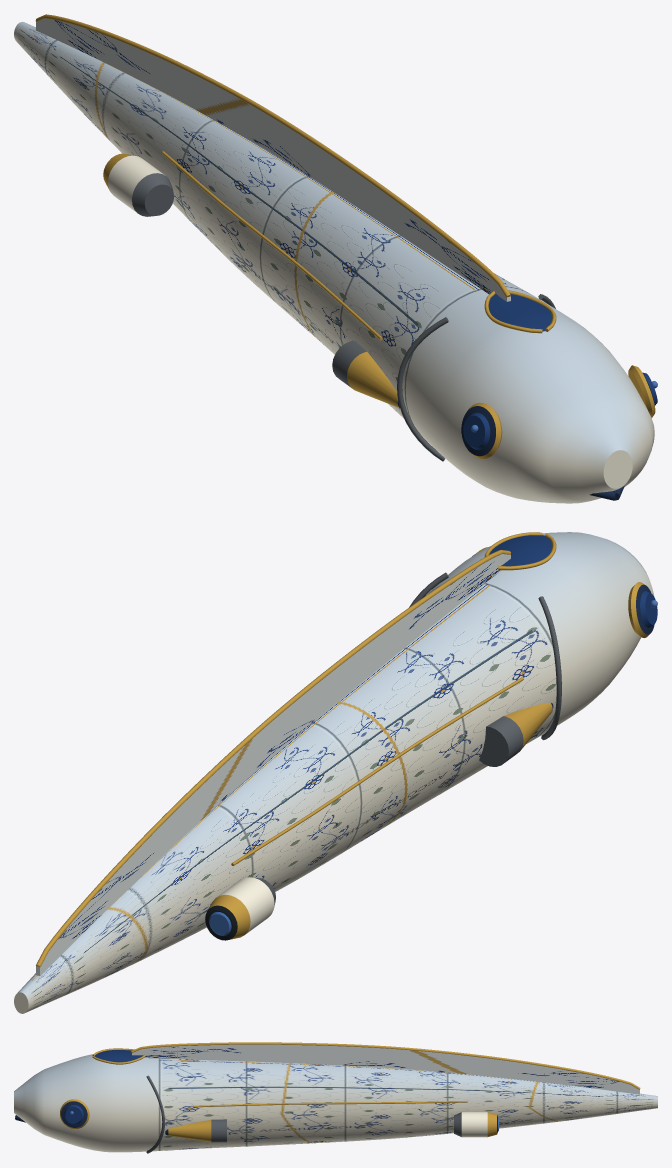
The picture shows the model from 3 angles, top to bottom: view 1: azimuth 30°, elevation 25°; view 2: azimuth 150°, elevation 25°; view 3: azimuth 270°, elevation 25°; orthographic projection. The views are drawn at different scales.
Visible parts, largest first — view 1: moray_hull; view 2: moray_hull; view 3: moray_hull.
Boxes of the visible parts, x1,y1,x2,y2 form: moray_hull: [14, 14, 657, 503]; moray_hull: [14, 532, 657, 1013]; moray_hull: [14, 1042, 657, 1153].
Size of the model in its own units: 7.55 by 7.56 by 42.
Materials: 1 (1 with a texture image).
